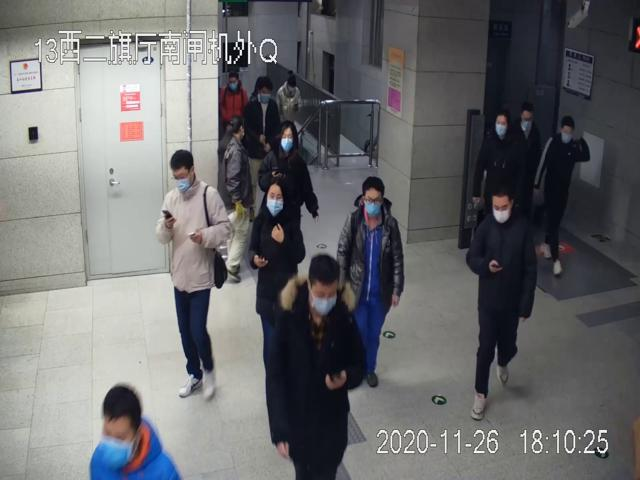person: (274, 255, 365, 480), (155, 151, 234, 405), (466, 188, 539, 422), (337, 177, 406, 387), (250, 180, 307, 349), (538, 116, 590, 279), (255, 122, 320, 224), (473, 109, 524, 211), (241, 79, 281, 162)
